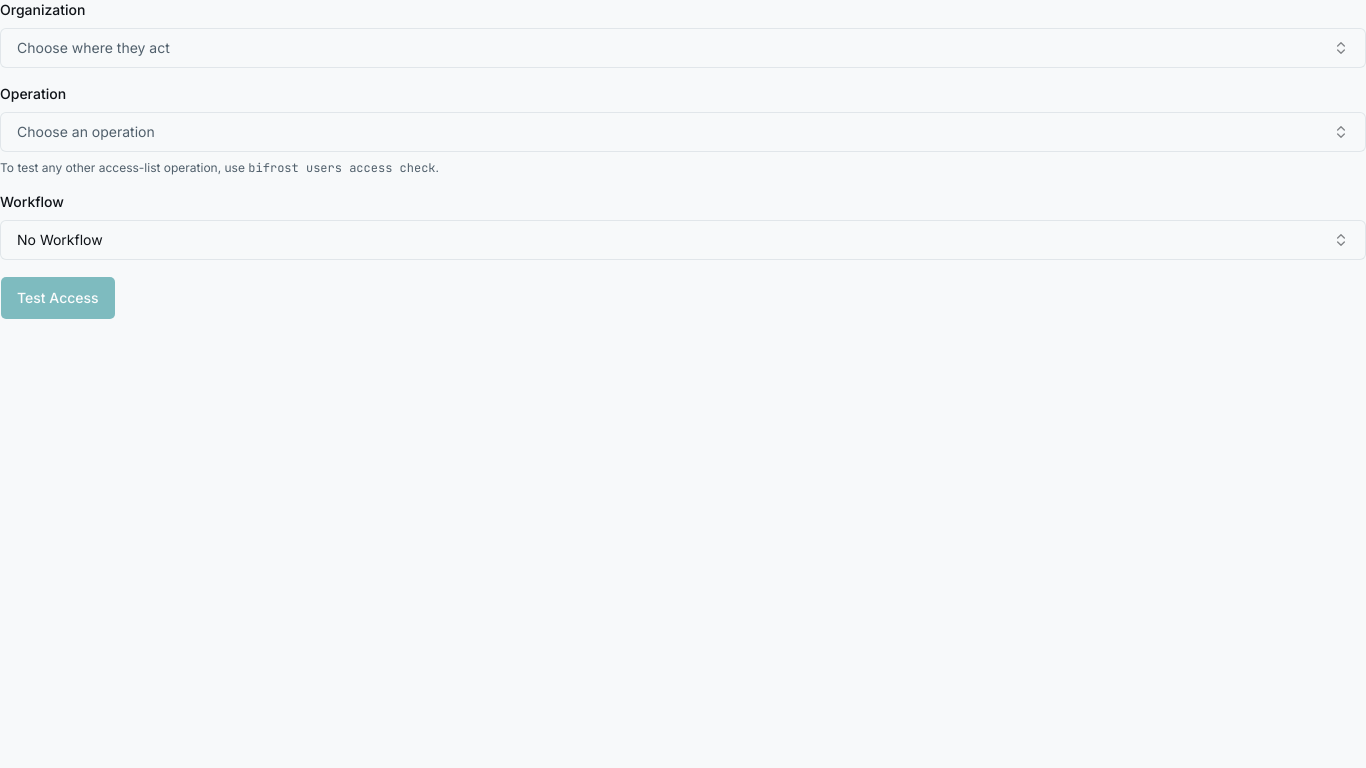
Test case: TestAccessPanel › offers only the places the caller can test in
Click the dropdown named "Organization": x=93, y=48 [0, 28, 1365, 68]
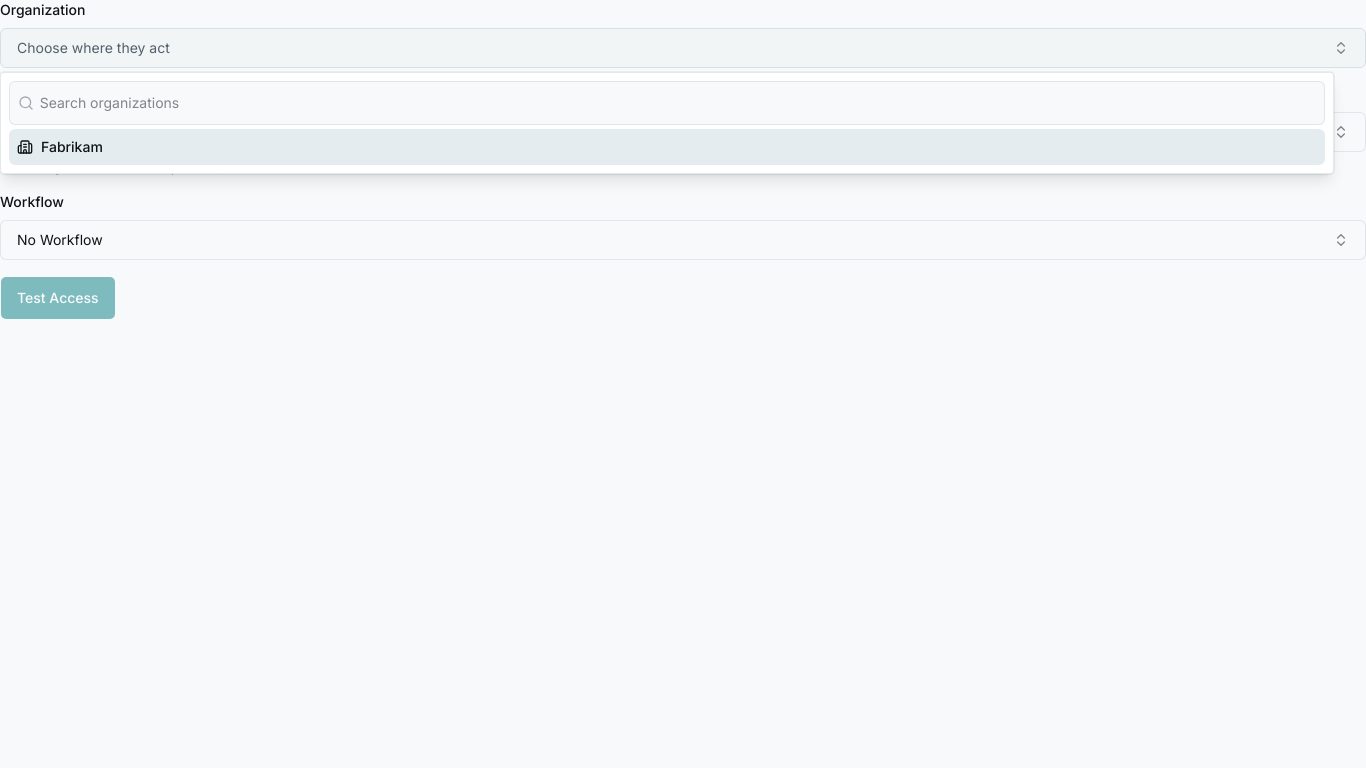
Check: the options read "Fabrikam", in this order, box [9, 129, 1325, 165]
